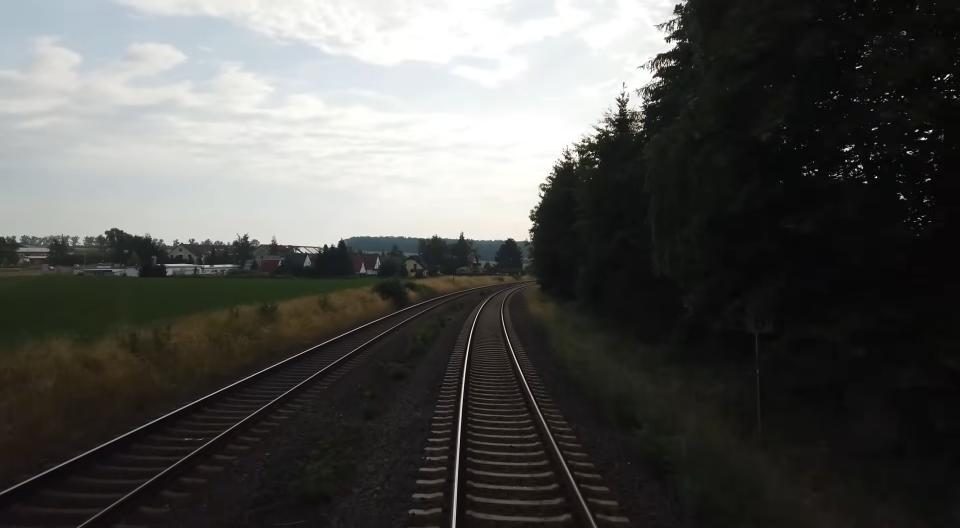Plant: (521, 289, 812, 528), (402, 316, 446, 359), (388, 365, 406, 381)
